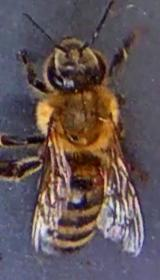varroa_mite: (86, 164, 112, 190)
